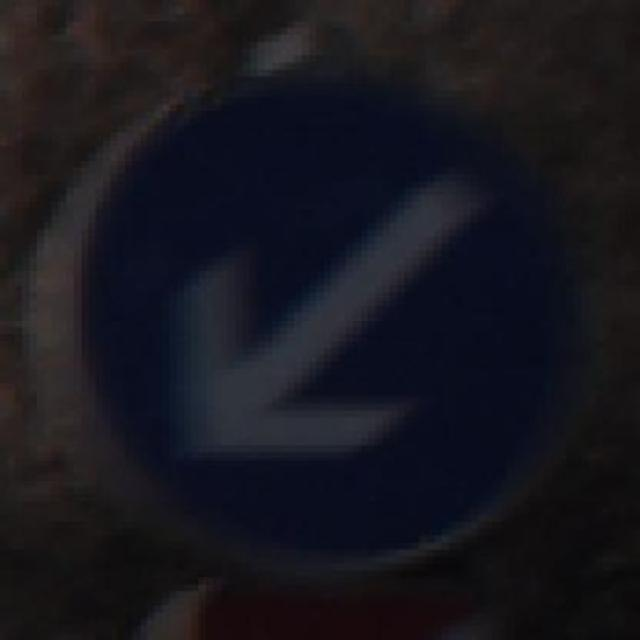Keep-Left: (59, 42, 603, 590)
